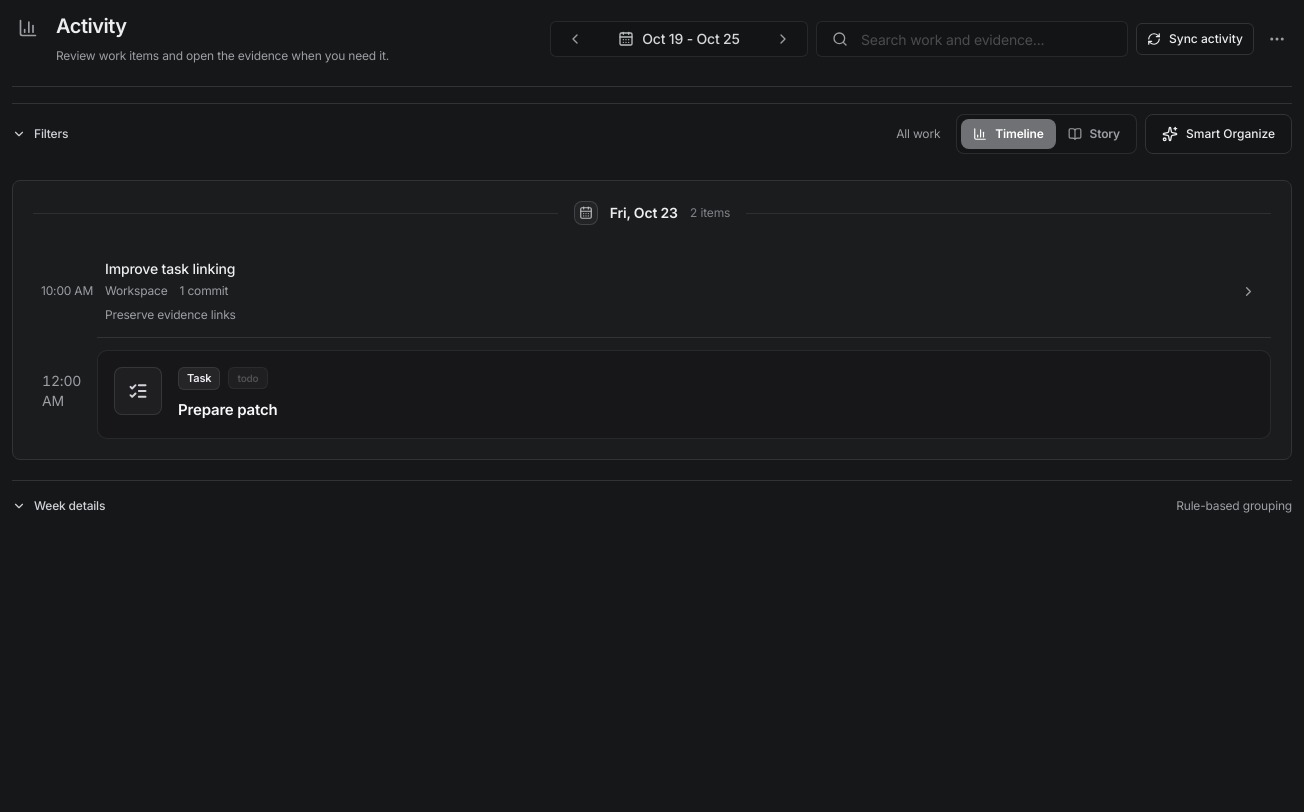
Test: progressive Developer workflows › makes ungrouped raw commits available without changing the stored evidence
expect the button with aria-label "Open work item: Improve task linking" is shown: met, box [105,247,1221,335]
expect the text "Unrelated raw evidence" is not shown: met
Click the button "Filters All work" at [51, 134], box [12,119,940,149]
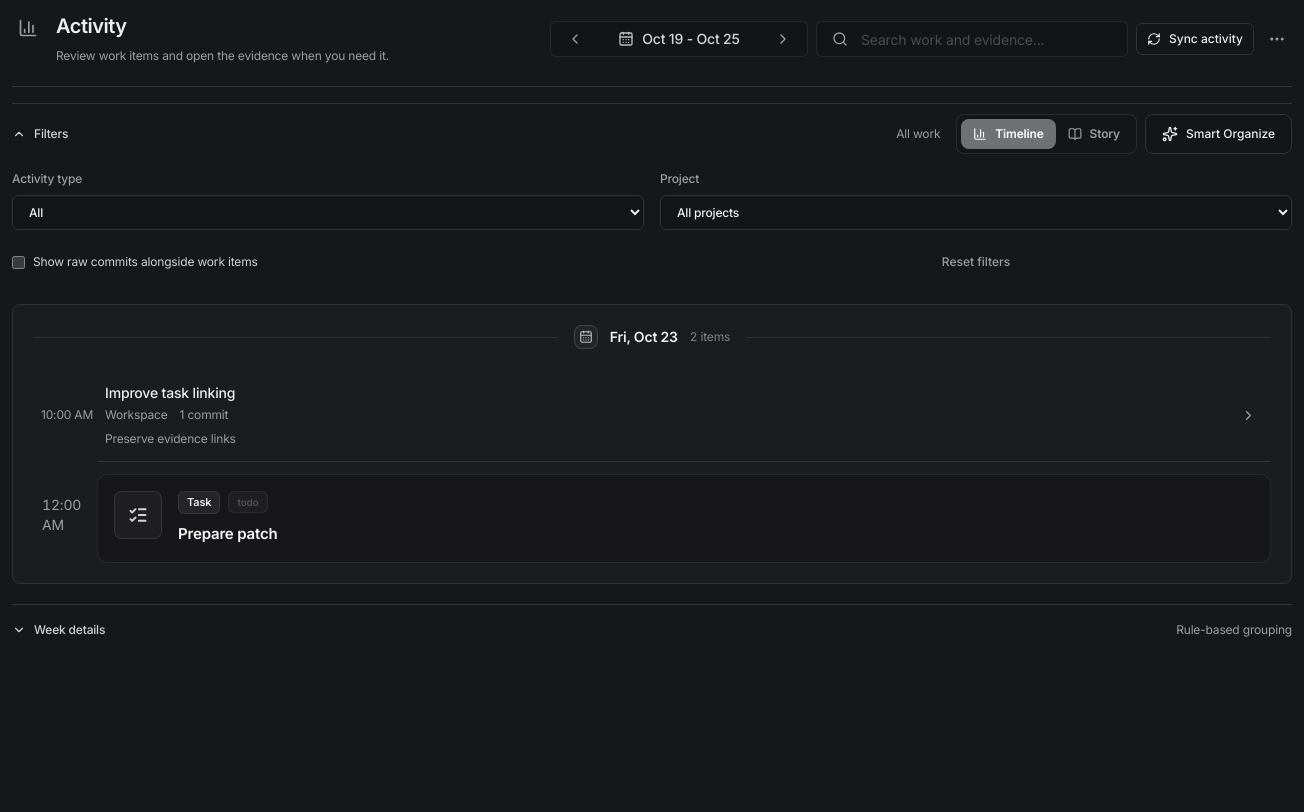
Click the checkbox labelled "Show raw commits alongside work items" at [18, 262], box [12,256,25,268]
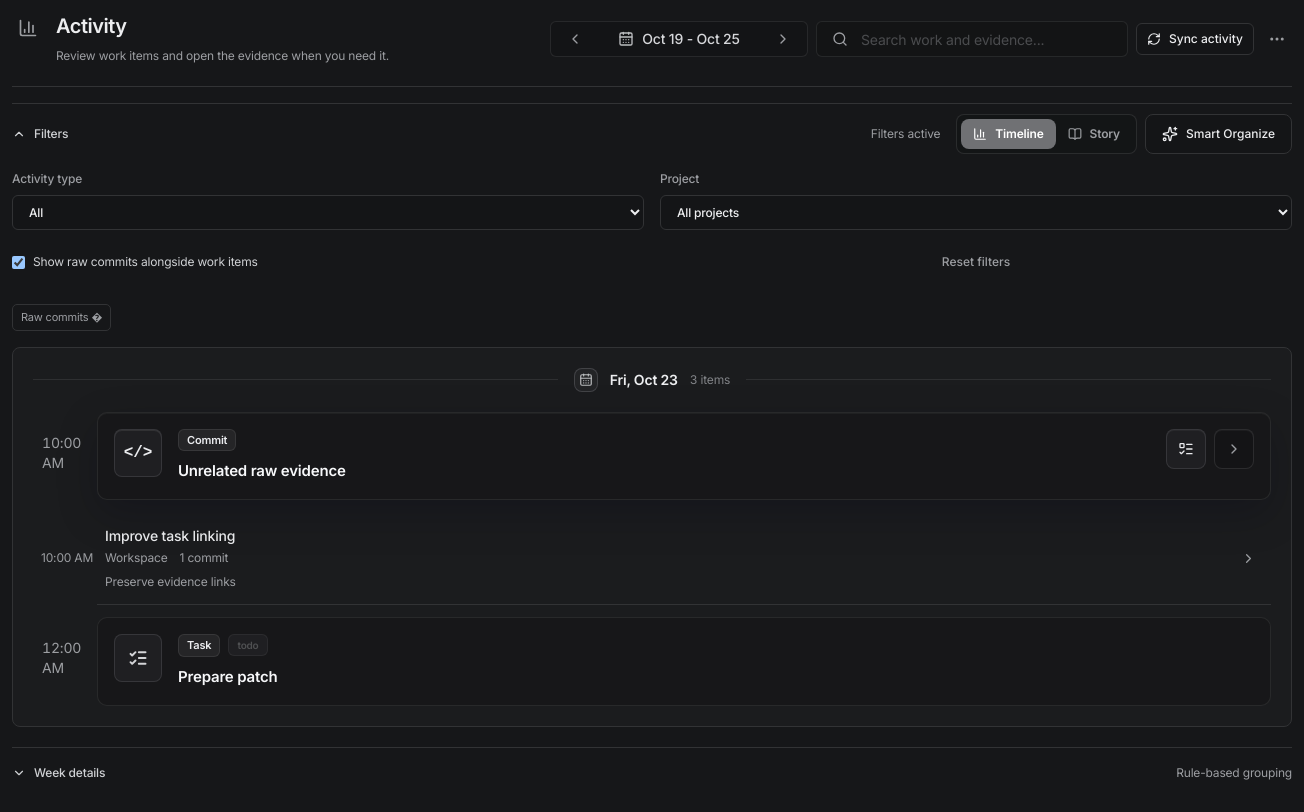
expect the text "Unrelated raw evidence" is shown: met, box [178,461,346,480]
